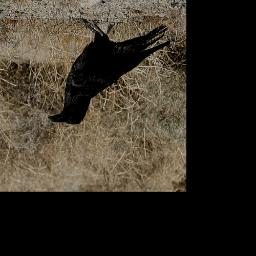Crow: (47, 18, 171, 125)
